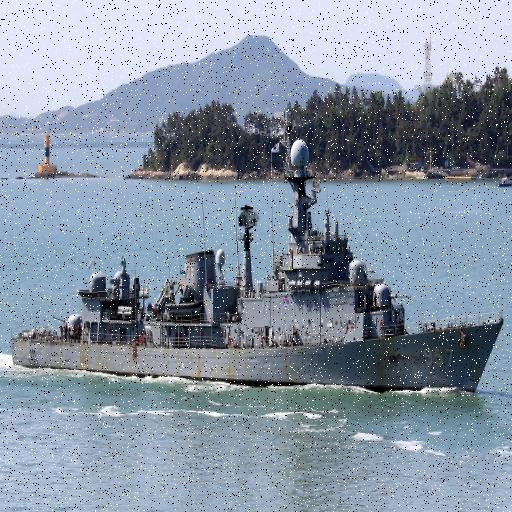Fragata: (9, 140, 510, 400)
